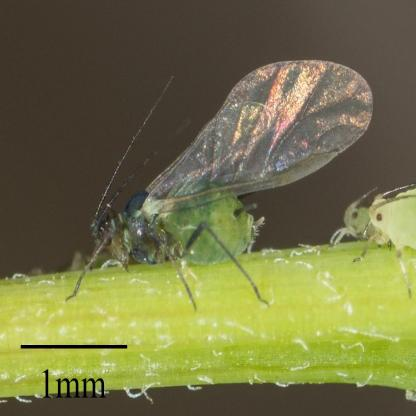aphid: (65, 51, 371, 312), (334, 180, 416, 264), (369, 186, 416, 264)
